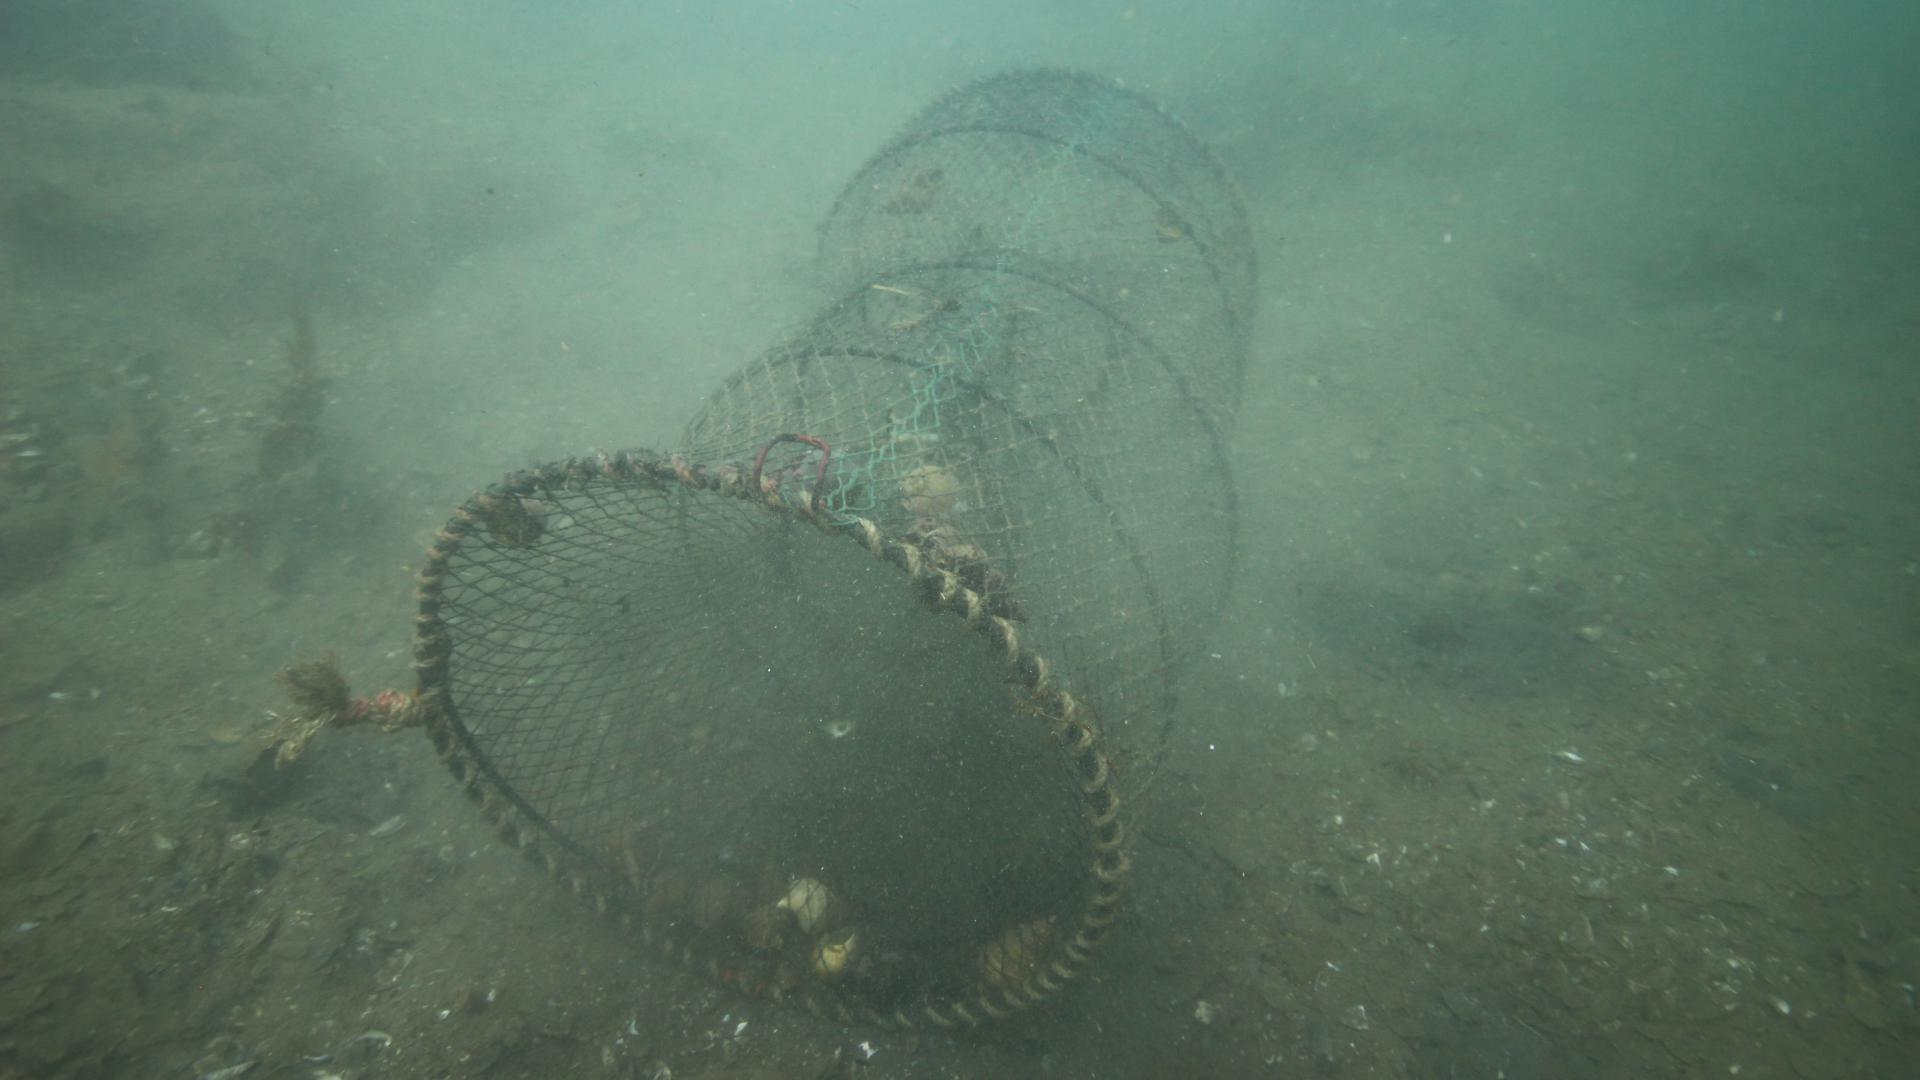spring fish trap: (411, 62, 1262, 1031)
